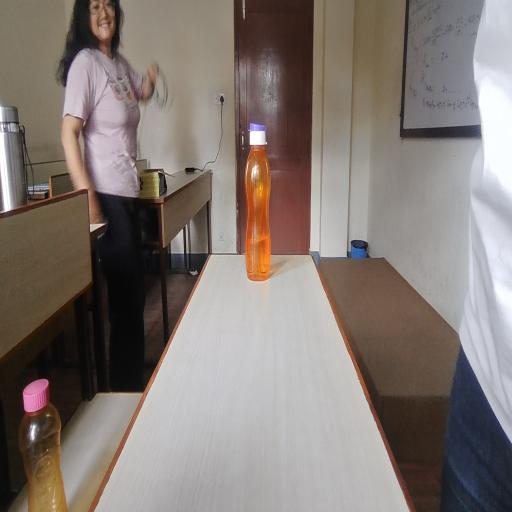Bottle: (247, 122, 292, 303)
